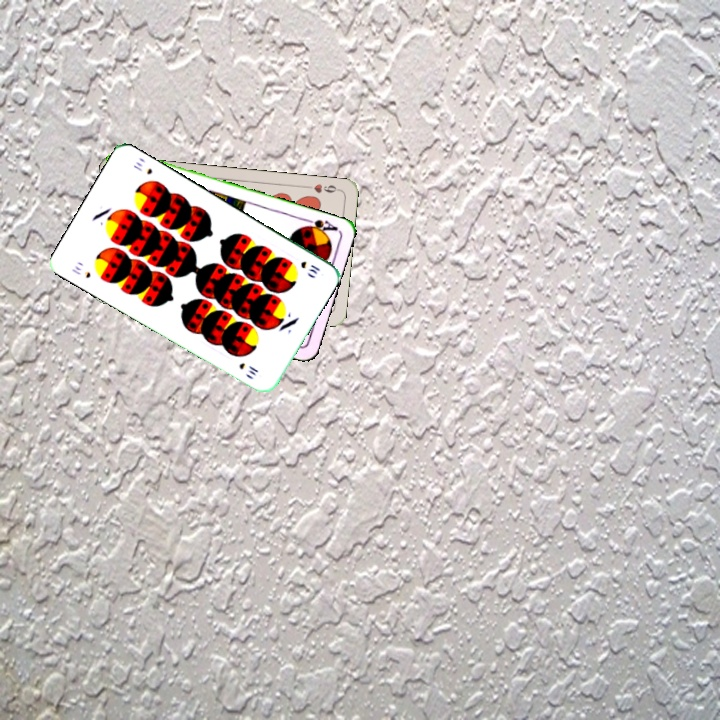H9: (302, 180, 342, 196)
S10: (296, 257, 323, 277), (68, 262, 93, 281)
SA: (298, 214, 340, 238)
